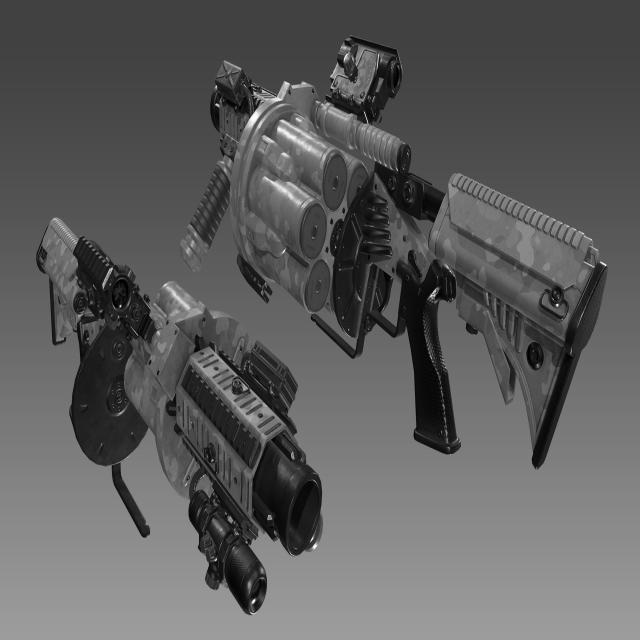Lancher: (157, 32, 640, 364), (0, 218, 337, 378)
